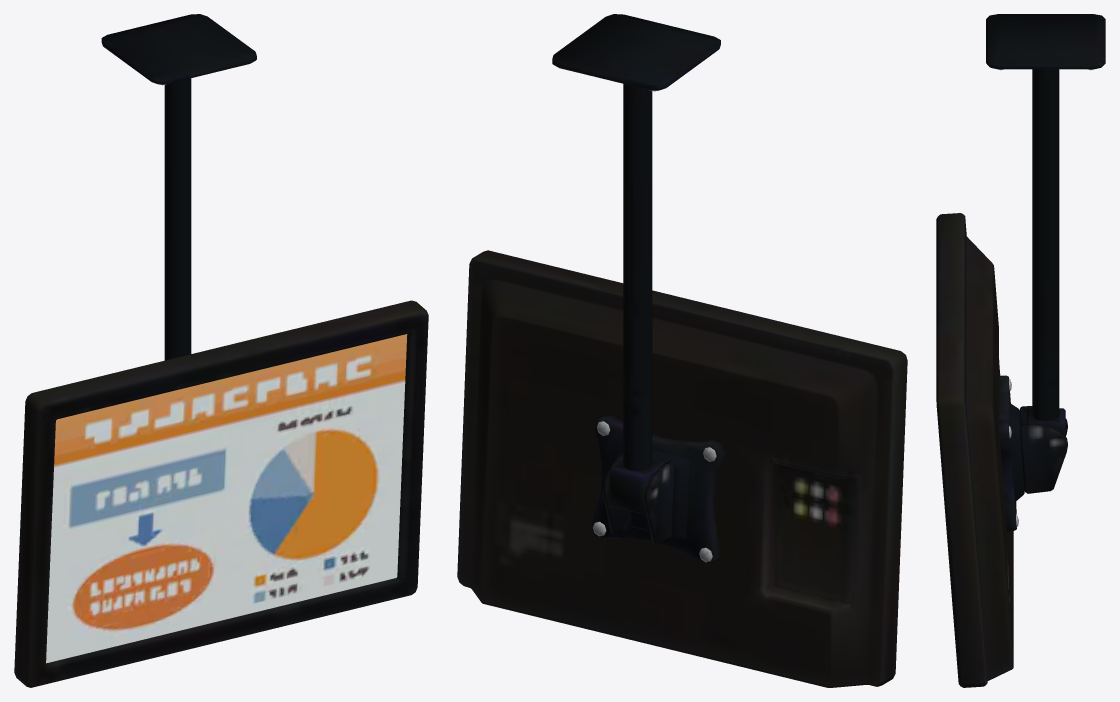
3 renders of one model, left to right at view 1: azimuth 30°, elevation 25°; view 2: azimuth 150°, elevation 25°; view 3: azimuth 270°, elevation 25°, orthographic. The views are drawn at different scales.
Size of the model in its own units: 10 by 13.73 by 3.78.
Materials: 2 (2 with a texture image).
